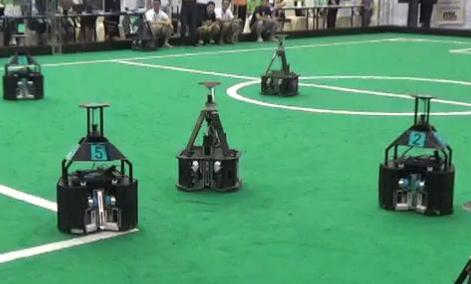robot: (50, 102, 140, 234), (376, 91, 459, 217), (172, 79, 246, 195), (2, 33, 46, 100), (259, 32, 301, 97)
